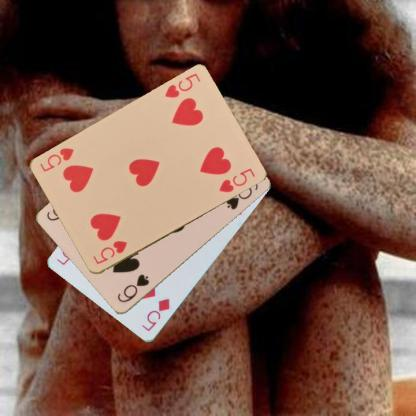5d: (139, 296, 171, 333)
5h: (162, 71, 202, 100), (90, 238, 129, 266)
6s: (114, 272, 151, 304)
